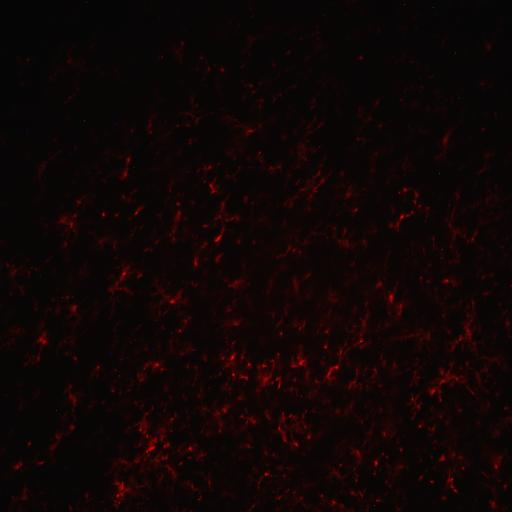microglia: (129, 408, 188, 481), (438, 184, 480, 267), (442, 294, 486, 356), (424, 360, 483, 406), (369, 276, 414, 334), (104, 250, 142, 318), (280, 165, 332, 214), (317, 222, 377, 263), (147, 276, 199, 319), (204, 191, 240, 251), (213, 340, 253, 394), (327, 170, 370, 219), (214, 265, 256, 314), (433, 450, 470, 502), (342, 300, 377, 353), (274, 410, 316, 453), (106, 474, 151, 512), (242, 190, 270, 250), (252, 348, 286, 396), (315, 280, 343, 338), (479, 448, 511, 497), (220, 112, 265, 145), (198, 399, 235, 439), (286, 136, 328, 170), (464, 186, 511, 215), (401, 182, 435, 222), (390, 325, 434, 355), (319, 344, 348, 388), (270, 235, 312, 263), (53, 210, 83, 249), (284, 269, 318, 303), (133, 354, 169, 386), (176, 94, 206, 132), (166, 198, 190, 245), (395, 78, 430, 110), (59, 380, 85, 422), (5, 259, 32, 299), (34, 146, 64, 182), (289, 342, 313, 387), (343, 440, 367, 485), (264, 258, 290, 298), (294, 112, 330, 140), (265, 303, 292, 340), (386, 152, 415, 186), (246, 149, 282, 175), (328, 401, 365, 426), (88, 227, 121, 255), (479, 350, 512, 378), (433, 126, 456, 165), (386, 460, 413, 493), (188, 236, 210, 273), (388, 206, 416, 234), (402, 240, 428, 270), (319, 461, 349, 486), (277, 489, 309, 512), (418, 274, 441, 306), (13, 53, 33, 89), (364, 402, 384, 438), (405, 387, 425, 422), (357, 119, 385, 144), (142, 225, 166, 254), (438, 270, 466, 294), (10, 478, 34, 506), (213, 314, 250, 332), (240, 32, 258, 69), (490, 411, 512, 441), (231, 434, 256, 460), (379, 353, 403, 380), (349, 358, 365, 398), (30, 323, 52, 352), (193, 467, 217, 493), (64, 49, 91, 72), (42, 291, 65, 318), (405, 354, 423, 388), (365, 356, 380, 396), (497, 298, 512, 338), (20, 349, 46, 372), (180, 364, 203, 390), (194, 157, 225, 176), (64, 302, 84, 331), (109, 362, 125, 398), (69, 260, 94, 283), (74, 188, 96, 214), (238, 404, 260, 430), (180, 480, 204, 503), (172, 314, 195, 338), (214, 75, 233, 104), (252, 468, 274, 493), (372, 450, 390, 480), (54, 332, 76, 356), (108, 454, 132, 476), (194, 54, 215, 79), (290, 314, 311, 339), (63, 416, 85, 439), (61, 83, 82, 107), (275, 464, 297, 486), (222, 164, 244, 186), (49, 429, 65, 459), (306, 374, 322, 404), (172, 42, 189, 70), (378, 420, 399, 442), (416, 418, 438, 439), (118, 186, 141, 206), (310, 25, 326, 53), (142, 111, 159, 137), (114, 147, 136, 167), (164, 171, 183, 194), (379, 243, 394, 272), (204, 176, 222, 200), (4, 320, 28, 338), (107, 334, 125, 358), (122, 224, 140, 248), (366, 145, 380, 175), (472, 398, 492, 419), (440, 429, 460, 450), (430, 410, 455, 426), (126, 205, 148, 223), (87, 398, 111, 414), (257, 72, 281, 88), (347, 488, 370, 504), (486, 498, 512, 512), (368, 94, 386, 114), (178, 340, 196, 360), (426, 232, 440, 257), (157, 127, 173, 148), (63, 349, 81, 367), (211, 250, 229, 268), (318, 7, 336, 25), (33, 449, 47, 472), (309, 89, 325, 109), (397, 1, 426, 12), (331, 491, 346, 512), (260, 438, 272, 464), (9, 457, 26, 475), (480, 37, 496, 56), (88, 360, 102, 381), (193, 448, 210, 465), (14, 390, 26, 414), (282, 382, 300, 398), (224, 146, 244, 160), (390, 498, 410, 512), (262, 402, 273, 426), (476, 163, 492, 179), (116, 166, 130, 183), (269, 89, 283, 106), (214, 64, 230, 78), (302, 478, 318, 492), (80, 490, 96, 504), (186, 134, 200, 150), (353, 47, 366, 64), (153, 208, 165, 226), (100, 172, 115, 186), (474, 270, 495, 280), (166, 339, 177, 358), (251, 96, 264, 112), (466, 84, 482, 96), (31, 386, 42, 403), (374, 494, 388, 507), (100, 203, 110, 221), (67, 501, 83, 512), (44, 252, 56, 266), (488, 226, 500, 240), (112, 210, 124, 222), (240, 81, 256, 90), (481, 288, 493, 300), (125, 125, 138, 136), (416, 470, 425, 485), (34, 266, 43, 280), (283, 48, 292, 60), (24, 439, 34, 448), (184, 167, 192, 175), (248, 3, 253, 11), (439, 454, 445, 460), (230, 354, 235, 360), (154, 362, 159, 368), (24, 129, 29, 135), (73, 306, 77, 312), (122, 271, 126, 276)
